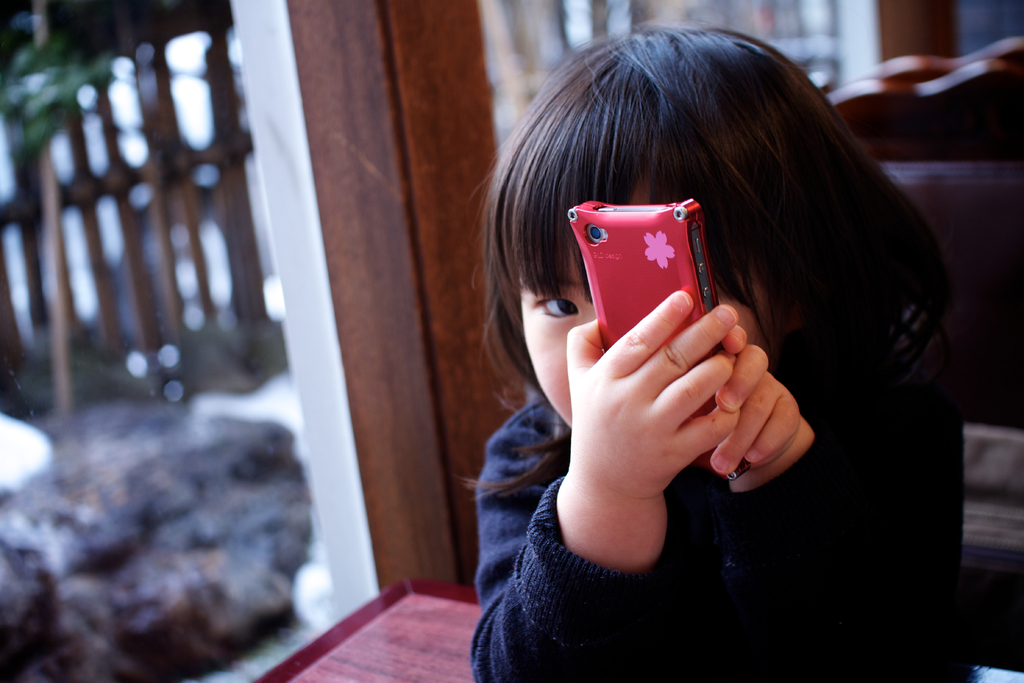Mobile-phone: (571, 195, 716, 394)
